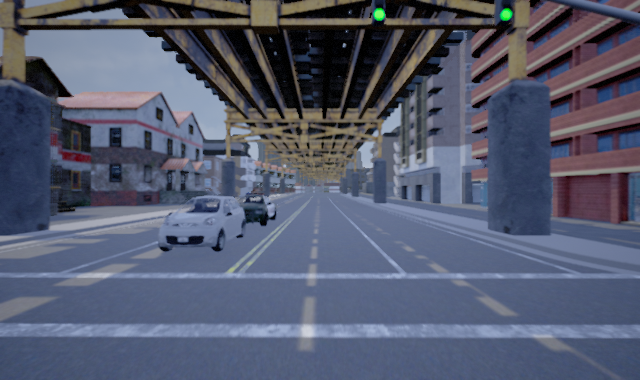vehicle: (157, 195, 250, 253), (218, 193, 276, 228)
